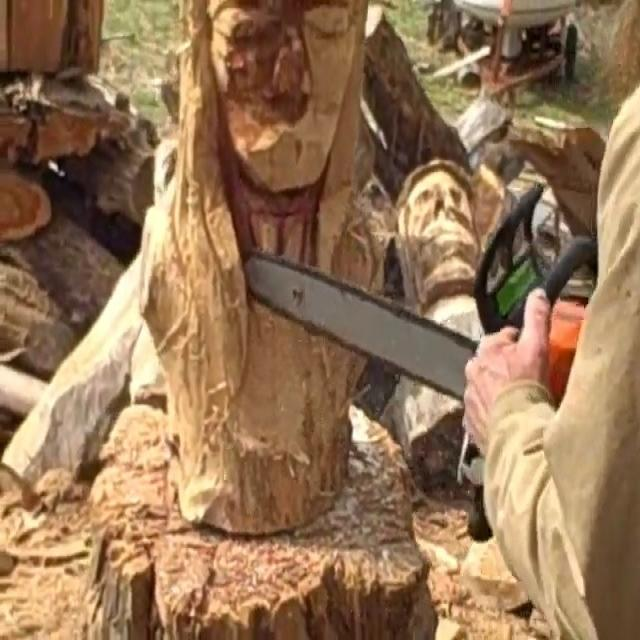Chainsaw: (218, 175, 606, 560)
